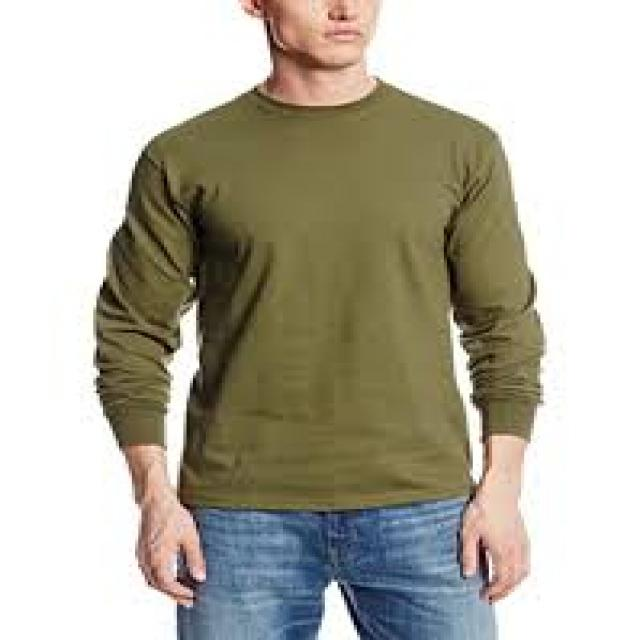plain: (89, 80, 548, 510)
